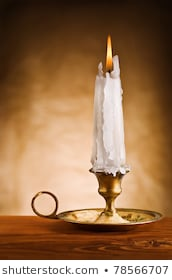Fire: (103, 37, 116, 72)
